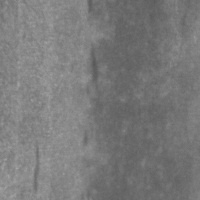inclusion: (81, 38, 108, 91), (28, 133, 46, 194)
